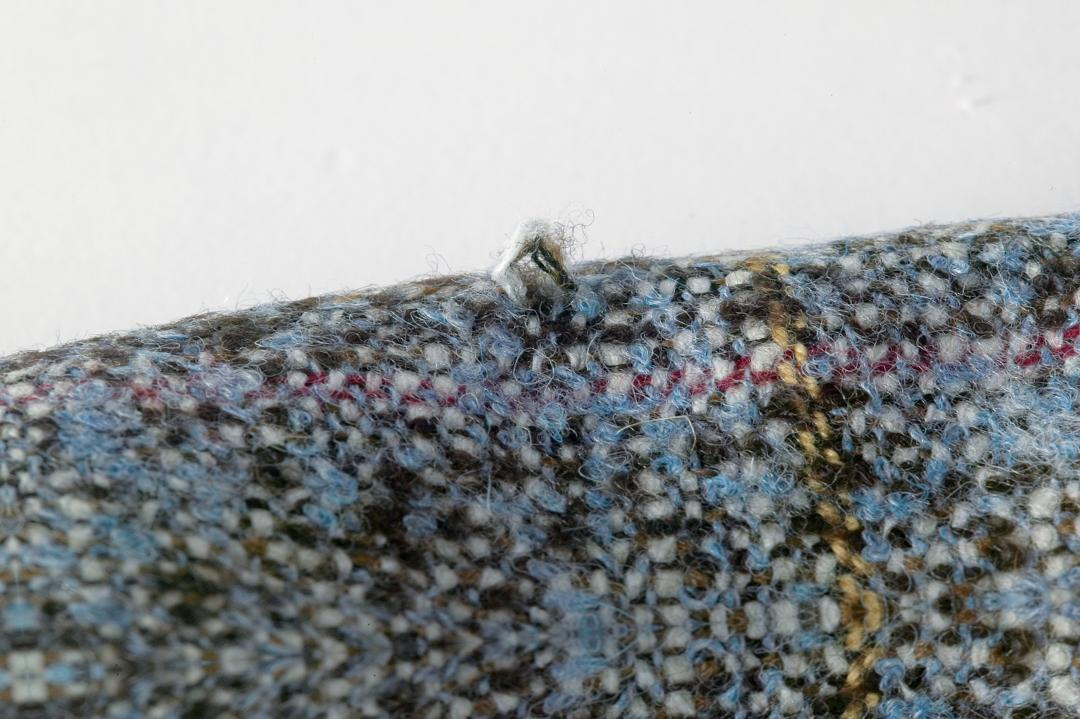snag: (483, 210, 605, 334)
